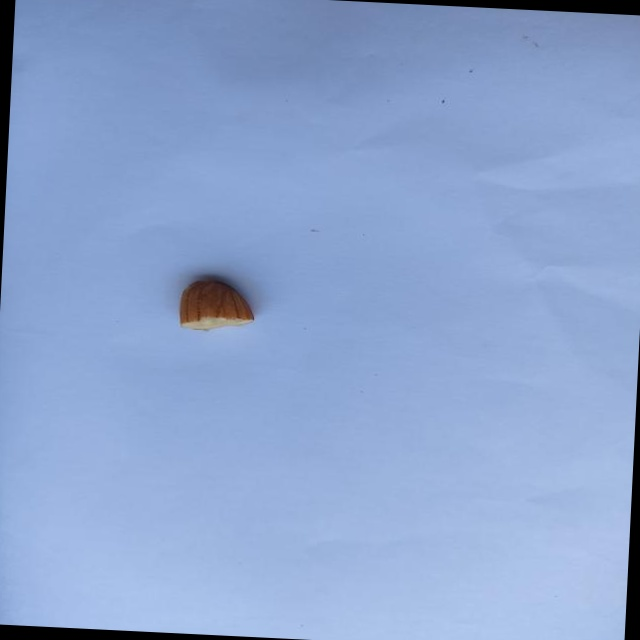grade4: (171, 271, 265, 338)
